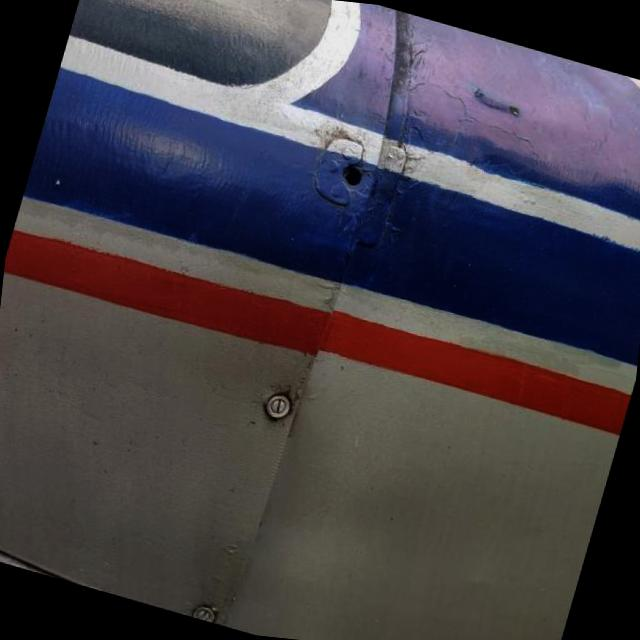Missing Fastener: (342, 161, 364, 184)
